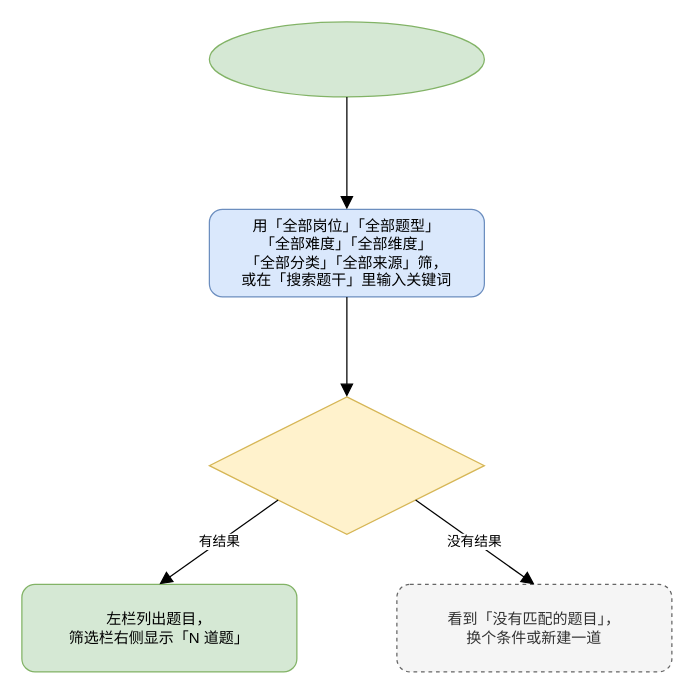
The diagram is 694 pixels wide and 694 high, and some of its shapes have lost their labels. The centre of each missing label's shape, as x and y in pixels:
在「题库」顶部的筛选栏里 挑条件: (346,59)
筛出结果了吗？: (346,465)
